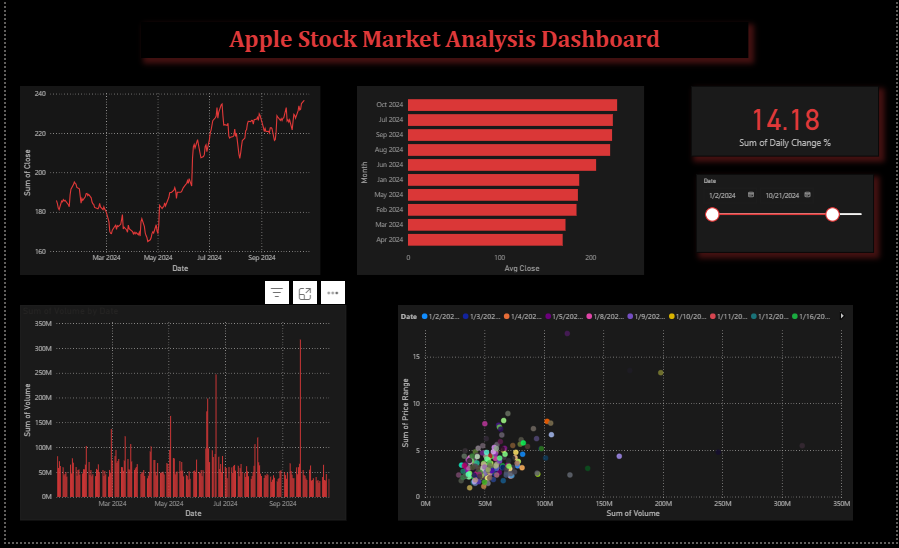

What the dashboard file says about the page in this screenshot:
{"tool":"powerbi","page":{"name":"Page 1","canvas":[1607,978],"ordinal":0},"visuals":[{"type":"lineChart","fields":{"Category":["AAPL_stock_data.Date"],"Y":["Sum(AAPL_stock_data.Close)"]},"box":[25.8,155,542.4,341.3],"z":0},{"type":"clusteredColumnChart","fields":{"Category":["AAPL_stock_data.Date"],"Y":["Sum(AAPL_stock_data.Volume)"]},"box":[25.8,549.8,588.6,389.3],"z":1000},{"type":"barChart","fields":{"Category":["AAPL_stock_data.Month"],"Y":["AAPL_stock_data.Avg Close"]},"box":[632.8,155,518.5,341.3],"z":2000},{"type":"card","fields":{"Values":["Sum(AAPL_stock_data.Daily Change %)"]},"box":[1236.2,155,339.5,127.3],"z":3000},{"type":"slicer","fields":{"Values":["AAPL_stock_data.Date"]},"box":[1245.4,313.7,321,142.1],"z":4000},{"type":"scatterChart","fields":{"X":["Sum(AAPL_stock_data.Volume)"],"Y":["Sum(AAPL_stock_data.Price Range)"],"Series":["AAPL_stock_data.Date"]},"box":[706.6,549.8,821,389.3],"z":5000},{"type":"textbox","box":[243.5,40.6,1095.9,64.6],"z":5001}]}

Visuals, with their boxes in screenshot pixels (x1, y1, x2, y2), scaled from the page's 1607x978 canvas onto the 899x548 screenshot:
lineChart - AAPL_stock_data.Date x Sum(AAPL_stock_data.Close): <box>14,87,318,278</box>
clusteredColumnChart - AAPL_stock_data.Date x Sum(AAPL_stock_data.Volume): <box>14,308,344,526</box>
barChart - AAPL_stock_data.Month x AAPL_stock_data.Avg Close: <box>354,87,644,278</box>
card - Sum(AAPL_stock_data.Daily Change %): <box>692,87,881,158</box>
slicer - AAPL_stock_data.Date: <box>697,176,876,255</box>
scatterChart - Sum(AAPL_stock_data.Volume) x Sum(AAPL_stock_data.Price Range): <box>395,308,855,526</box>
textbox: <box>136,23,749,59</box>
